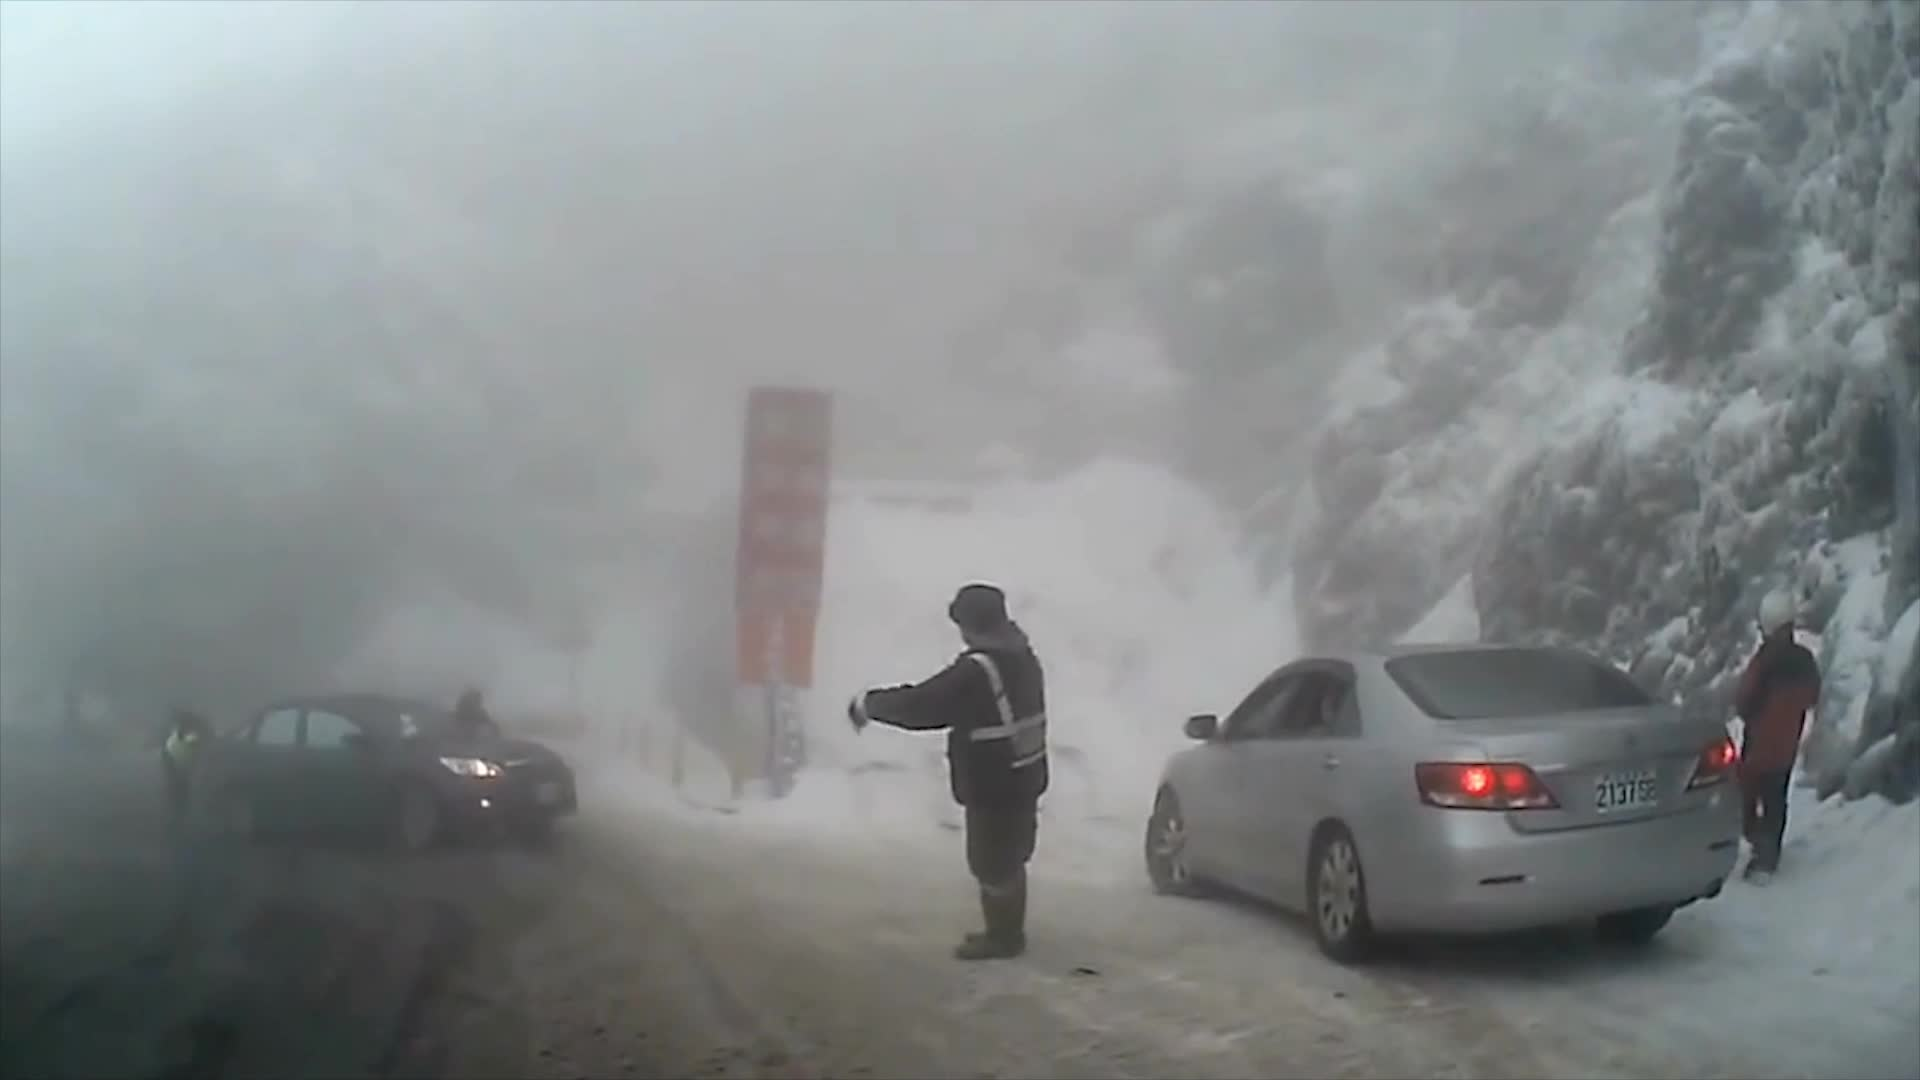pedestrian: (852, 586, 1049, 959), (1725, 588, 1819, 882), (160, 713, 218, 824)
vehicle: (1143, 639, 1742, 959), (201, 683, 581, 852)
